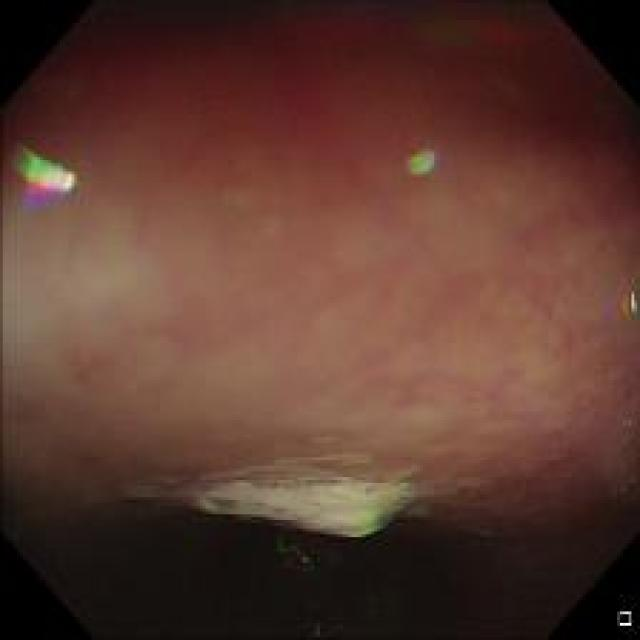blur: (4, 1, 598, 479)
color misalignment: (156, 469, 425, 542), (14, 140, 71, 208), (404, 141, 439, 181), (605, 282, 635, 319)
contrast: (19, 489, 629, 628)
